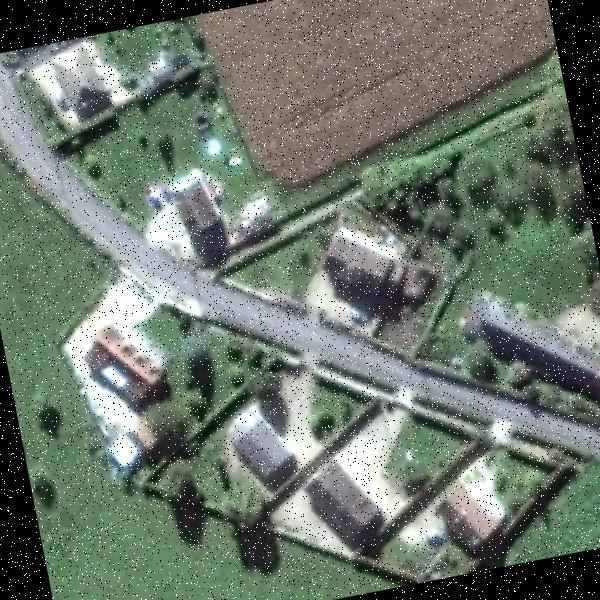Buildings: (464, 281, 600, 408), (37, 38, 132, 122), (84, 328, 169, 402), (306, 460, 384, 540), (322, 222, 406, 296), (157, 161, 222, 230), (230, 421, 291, 482), (446, 474, 492, 540)
